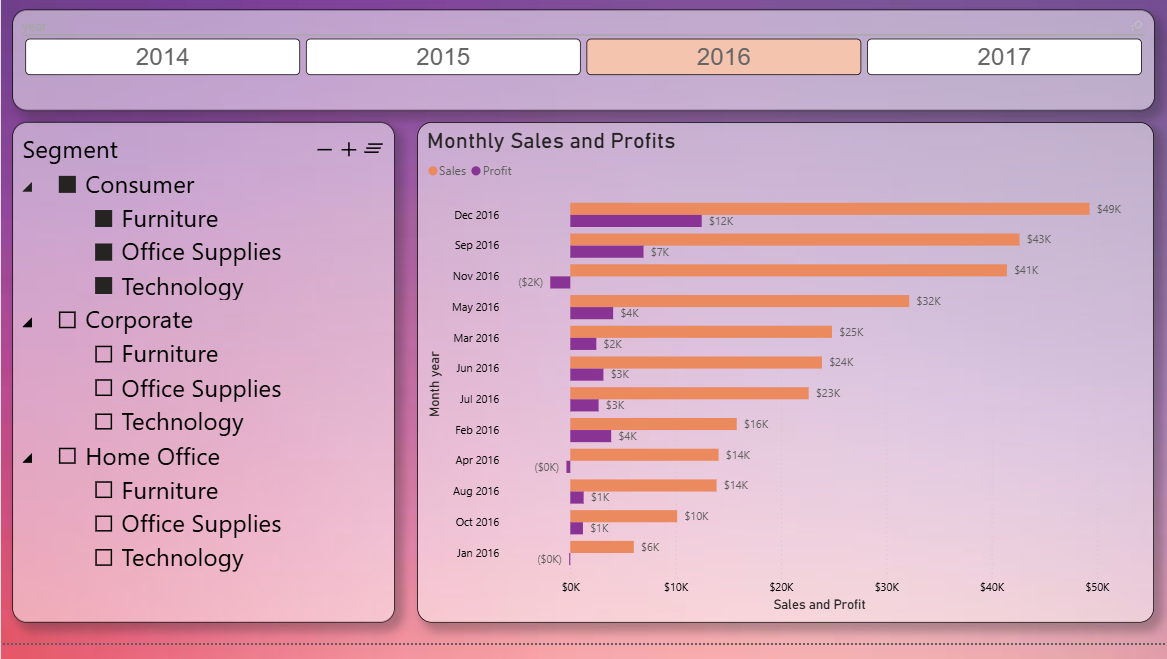

Layout of this report page (visuals, bound fields, positions):
{"tool":"powerbi","page":{"name":"Report 2 – Product Sales and Profit","canvas":[1280,720],"ordinal":1},"visuals":[{"type":"ChicletSlicer1448559807354","fields":{"Category":["Orders.year"]},"box":[12.3,24.7,1254.2,111.1],"z":0},{"type":"clusteredBarChart","title":"Monthly Sales and Profits ","fields":{"Category":["Orders.Month year"],"Y":["Sum(Orders.Sales)","Sum(Orders.Profit)"]},"box":[457.4,148.4,809.1,549.5],"z":1000},{"type":"HierarchySlicer1458836712039","title":"Product Sub-Category Analysis","fields":{"Fields":["Orders.Segment","Orders.Category"]},"box":[12.4,148.4,420.3,549.5],"z":2000}]}

Visuals, with their boxes in screenshot pixels (x1, y1, x2, y2), scaled from the page's 1280x720 canvas onto the 1167x659 screenshot:
ChicletSlicer1448559807354 - Orders.year: <box>11,23,1155,124</box>
"Monthly Sales and Profits " clusteredBarChart: <box>417,136,1155,639</box>
"Product Sub-Category Analysis" HierarchySlicer1458836712039: <box>11,136,395,639</box>
